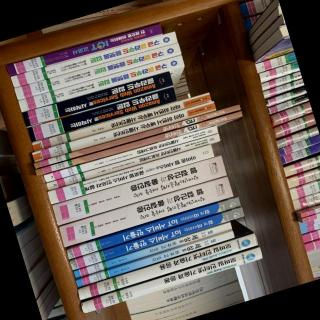book-spine: (32, 103, 240, 169), (35, 110, 242, 175), (51, 154, 227, 226), (75, 233, 258, 301), (78, 247, 263, 314), (58, 177, 233, 247), (32, 101, 216, 162), (69, 207, 244, 270), (65, 197, 241, 259), (31, 92, 211, 152), (46, 143, 214, 204), (43, 125, 218, 183), (45, 133, 220, 191), (14, 41, 181, 100), (9, 31, 178, 88), (18, 54, 184, 112), (75, 229, 234, 288), (73, 221, 232, 279), (5, 22, 162, 76), (22, 72, 173, 127), (26, 87, 177, 142)
